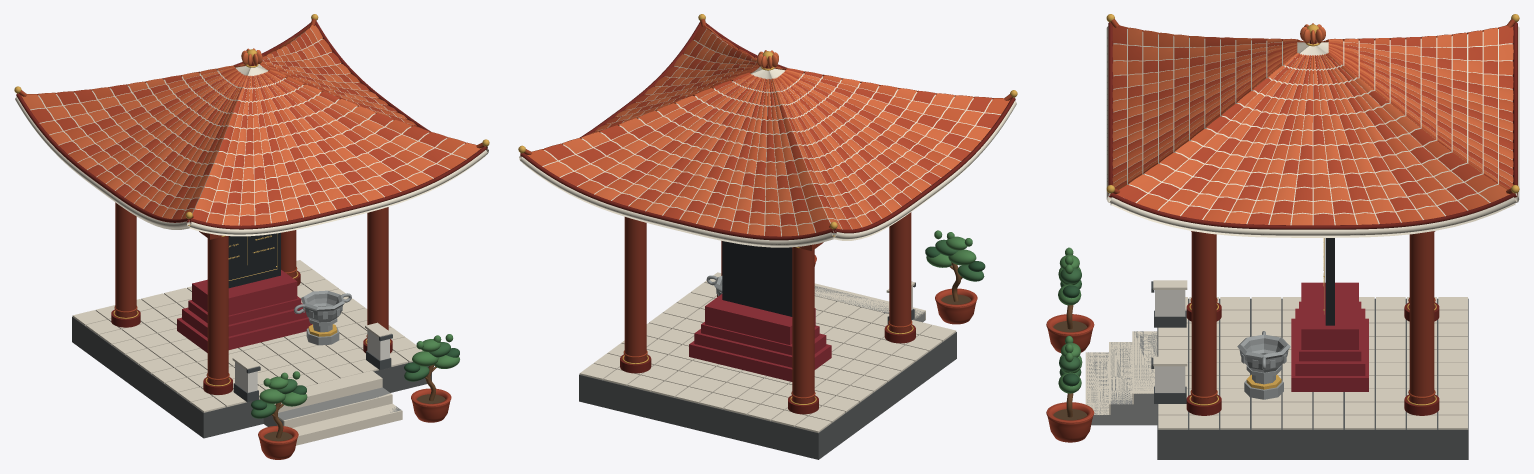
File: vietnamese_memorial_pavilion.glb
3 views of the same model, side by side, from view 1: azimuth 30°, elevation 25°; view 2: azimuth 150°, elevation 25°; view 3: azimuth 270°, elevation 25° (orthographic). The views are drawn at different scales.
Visible parts, largest first — view 1: Curved terracotta tiles - roof face 4, Curved terracotta tiles - roof face 3, Continuous pale cream roof underlay, Raised platform core 4.0 x 4.0 m, Curved terracotta tiles - roof face 1, Front Left polished round pillar, Front Right polished round pillar, Vertical black granite memorial tablet 1.2 x 2.0 x 0.12 m, Rear Left polished round pillar, Ruby granite pedestal top cap, Cream moulded eave underside 3, Ruby granite pedestal bottom plinth 1.8 x 1.0 (+19 smaller); view 2: Curved terracotta tiles - roof face 2, Curved terracotta tiles - roof face 3, Continuous pale cream roof underlay, Raised platform core 4.0 x 4.0 m, Curved terracotta tiles - roof face 1, Vertical black granite memorial tablet 1.2 x 2.0 x 0.12 m, Rear Left polished round pillar, Rear Right polished round pillar, Front Left polished round pillar, Ruby granite pedestal top cap, Cream moulded eave underside 1, Ruby granite pedestal bottom plinth 1.8 x 1.0 (+10 smaller); view 3: Curved terracotta tiles - roof face 1, Curved terracotta tiles - roof face 2, Curved terracotta tiles - roof face 4, Continuous pale cream roof underlay, Raised platform core 4.0 x 4.0 m, Rear Right polished round pillar, Front Right polished round pillar, Three-step stair mass, Ruby granite pedestal top cap, Cream moulded eave underside 0, Red lacquered eave fascia 0, Ruby granite pedestal bottom plinth 1.8 x 1.0 (+15 smaller).
Part boxes in pixels (x1=…): Curved terracotta tiles - roof face 4: x1=192, y1=70, x2=481, y2=225; Curved terracotta tiles - roof face 3: x1=21, y1=66, x2=246, y2=219; Continuous pale cream roof underlay: x1=30, y1=28, x2=466, y2=225; Raised platform core 4.0 x 4.0 m: x1=72, y1=316, x2=431, y2=438; Curved terracotta tiles - roof face 1: x1=259, y1=25, x2=476, y2=145; Front Left polished round pillar: x1=207, y1=236, x2=228, y2=385; Front Right polished round pillar: x1=367, y1=207, x2=388, y2=330; Vertical black granite memorial tablet 1.2 x 2.0 x 0.12 m: x1=228, y1=232, x2=280, y2=288; Rear Left polished round pillar: x1=115, y1=202, x2=136, y2=317; Ruby granite pedestal top cap: x1=192, y1=270, x2=297, y2=315; Cream moulded eave underside 3: x1=187, y1=150, x2=487, y2=234; Ruby granite pedestal bottom plinth 1.8 x 1.0: x1=177, y1=317, x2=312, y2=352; Curved terracotta tiles - roof face 2: x1=527, y1=72, x2=830, y2=236; Curved terracotta tiles - roof face 3: x1=773, y1=68, x2=1010, y2=229; Continuous pale cream roof underlay: x1=542, y1=29, x2=1000, y2=236; Raised platform core 4.0 x 4.0 m: x1=579, y1=332, x2=956, y2=459; Curved terracotta tiles - roof face 1: x1=532, y1=25, x2=759, y2=151; Vertical black granite memorial tablet 1.2 x 2.0 x 0.12 m: x1=722, y1=241, x2=792, y2=316; Rear Left polished round pillar: x1=792, y1=247, x2=814, y2=403; Rear Right polished round pillar: x1=624, y1=217, x2=646, y2=363; Front Left polished round pillar: x1=889, y1=212, x2=911, y2=333; Ruby granite pedestal top cap: x1=705, y1=294, x2=815, y2=344; Cream moulded eave underside 1: x1=520, y1=157, x2=835, y2=245; Ruby granite pedestal bottom plinth 1.8 x 1.0: x1=689, y1=341, x2=831, y2=381; Curved terracotta tiles - roof face 1: x1=1116, y1=53, x2=1510, y2=225; Curved terracotta tiles - roof face 2: x1=1328, y1=25, x2=1513, y2=189; Curved terracotta tiles - roof face 4: x1=1112, y1=25, x2=1297, y2=189; Continuous pale cream roof underlay: x1=1113, y1=29, x2=1512, y2=225; Raised platform core 4.0 x 4.0 m: x1=1157, y1=298, x2=1468, y2=459; Rear Right polished round pillar: x1=1409, y1=231, x2=1434, y2=404; Front Right polished round pillar: x1=1191, y1=231, x2=1216, y2=404; Three-step stair mass: x1=1087, y1=331, x2=1157, y2=425; Ruby granite pedestal top cap: x1=1301, y1=282, x2=1358, y2=349; Cream moulded eave underside 0: x1=1109, y1=197, x2=1516, y2=235; Red lacquered eave fascia 0: x1=1109, y1=193, x2=1516, y2=229; Ruby granite pedestal bottom plinth 1.8 x 1.0: x1=1291, y1=318, x2=1368, y2=391.
Bounding box in the file's own units: 5.31 × 5.23 × 6.08.
